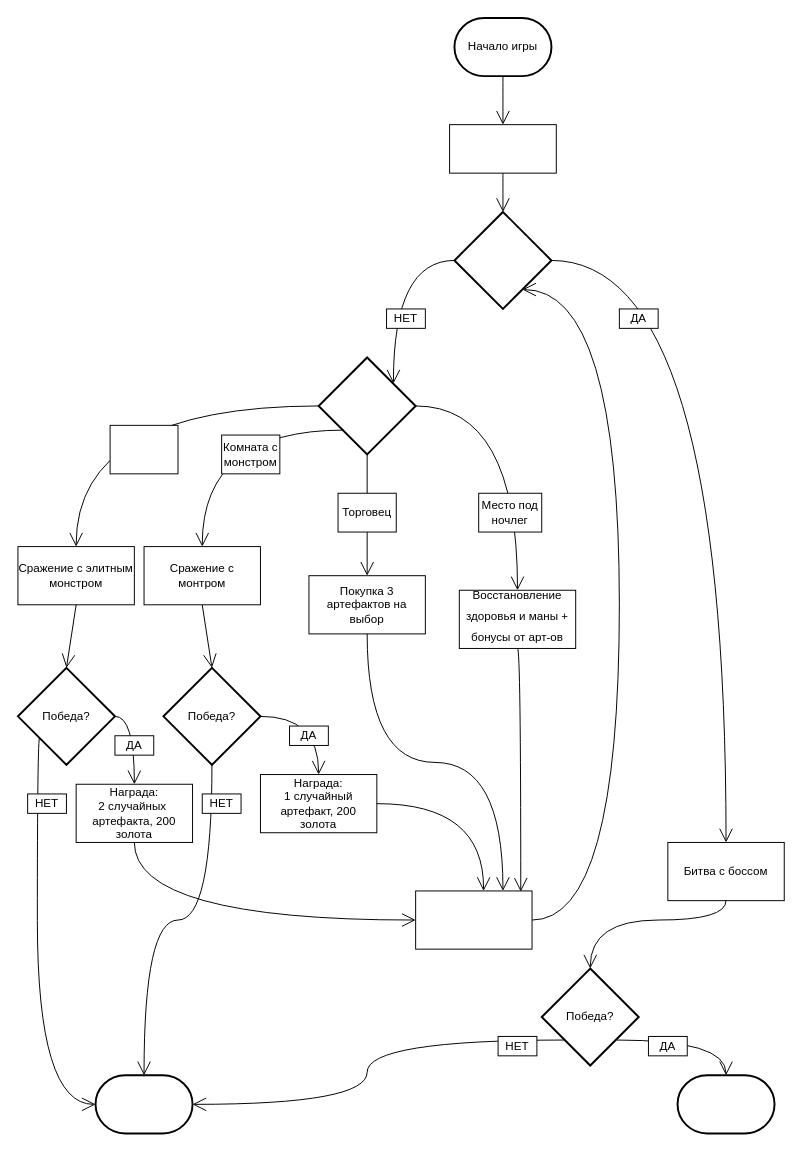
Some shapes in this 801 by 1150 pixel diagram are drawn without their labels. The box of each missing label's shape, as (x1, y1, x2, y2) in pixels:
Выбор класса (Воин, Плут, Маг): (449, 124, 556, 173)
Выбор комнаты (случайные 3 из 4 возможных)?: (317, 356, 416, 455)
Комната с элитным монстром: (109, 424, 178, 474)
Победа!: (676, 1074, 775, 1134)
Поражение: (94, 1074, 193, 1134)
Счетчик == 10?: (453, 210, 552, 309)
Увеличение счетчика: (415, 890, 532, 949)
